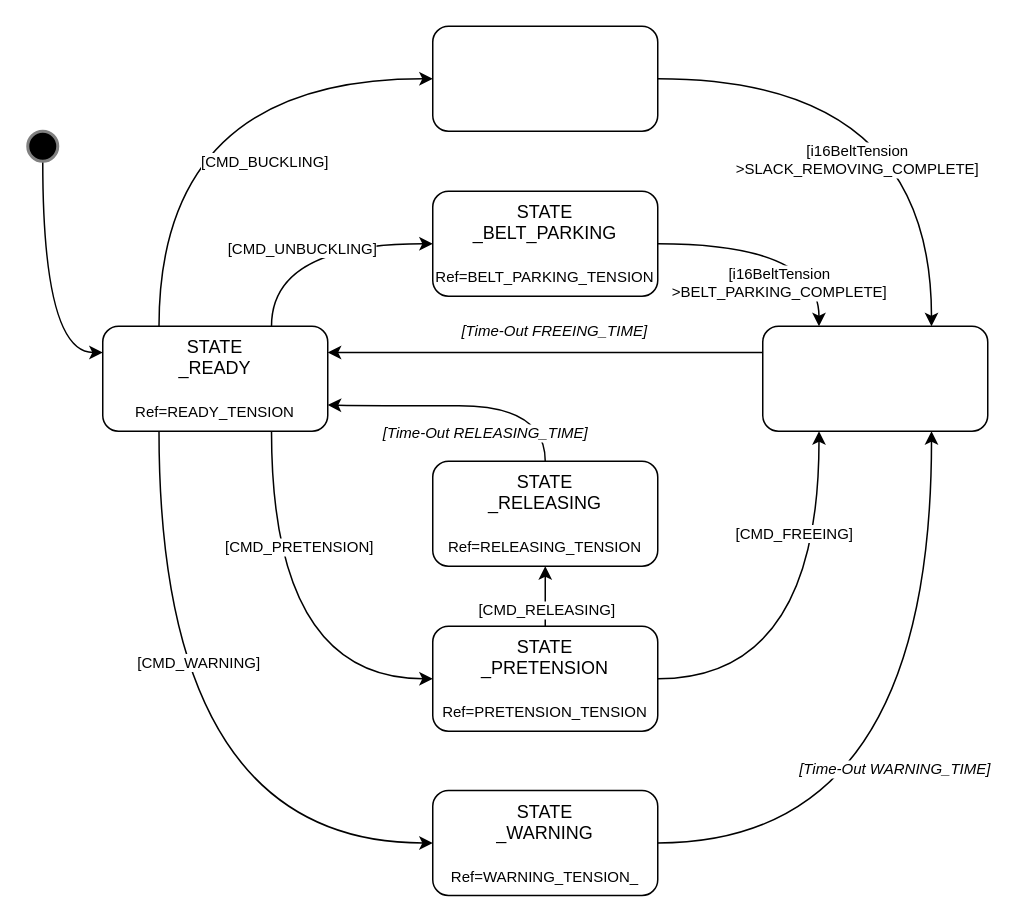
Some shapes in this 1016 by 923 pixel diagram are drawn without their labels. Each missing label, with the box of its shape:
STATE _FREEING Ref=FREEING_ TENSION: (761, 325, 988, 431)
STATE _SLACK_REMOVING Ref=SLACK_REMOVING_ TENSION: (431, 25, 658, 131)
